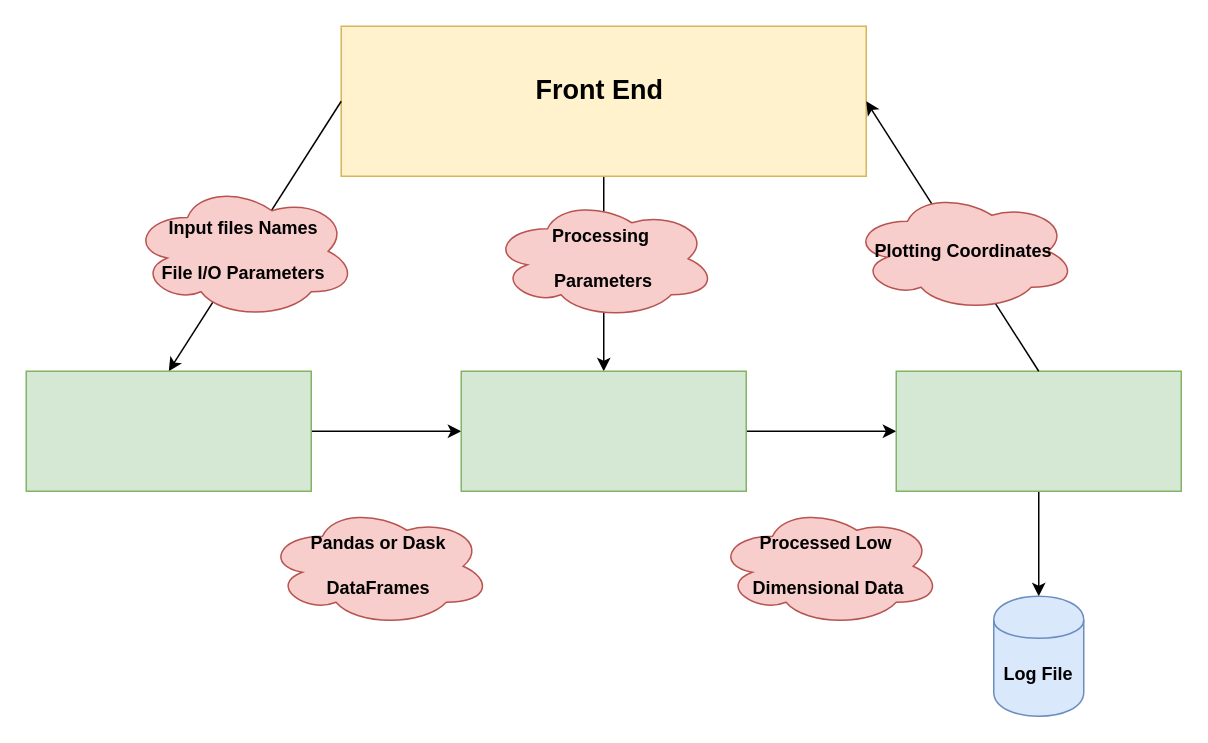
Some shapes in this 1208 by 743 pixel diagram are drawn without their labels. The shapes that lost their labels are listed below. From the top down, each one's box as (x1, y1, x2, y2) in pixels, then its label:
(25, 370, 311, 491): Data Importer
(460, 370, 746, 491): Data Processor
(895, 370, 1181, 491): Data Output
